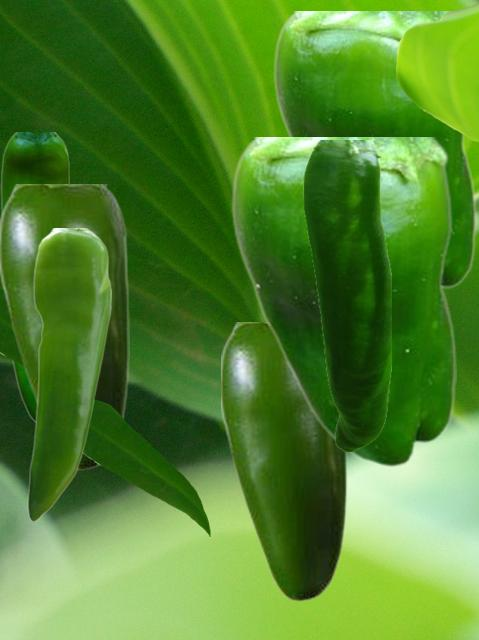green_chili: (230, 137, 455, 467), (272, 11, 475, 291), (0, 184, 128, 470), (221, 322, 346, 601), (303, 140, 390, 451), (27, 228, 110, 520), (0, 132, 69, 422)
